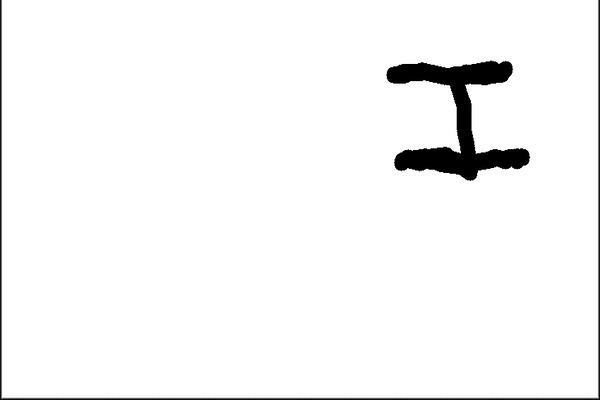i: (371, 48, 543, 188)
